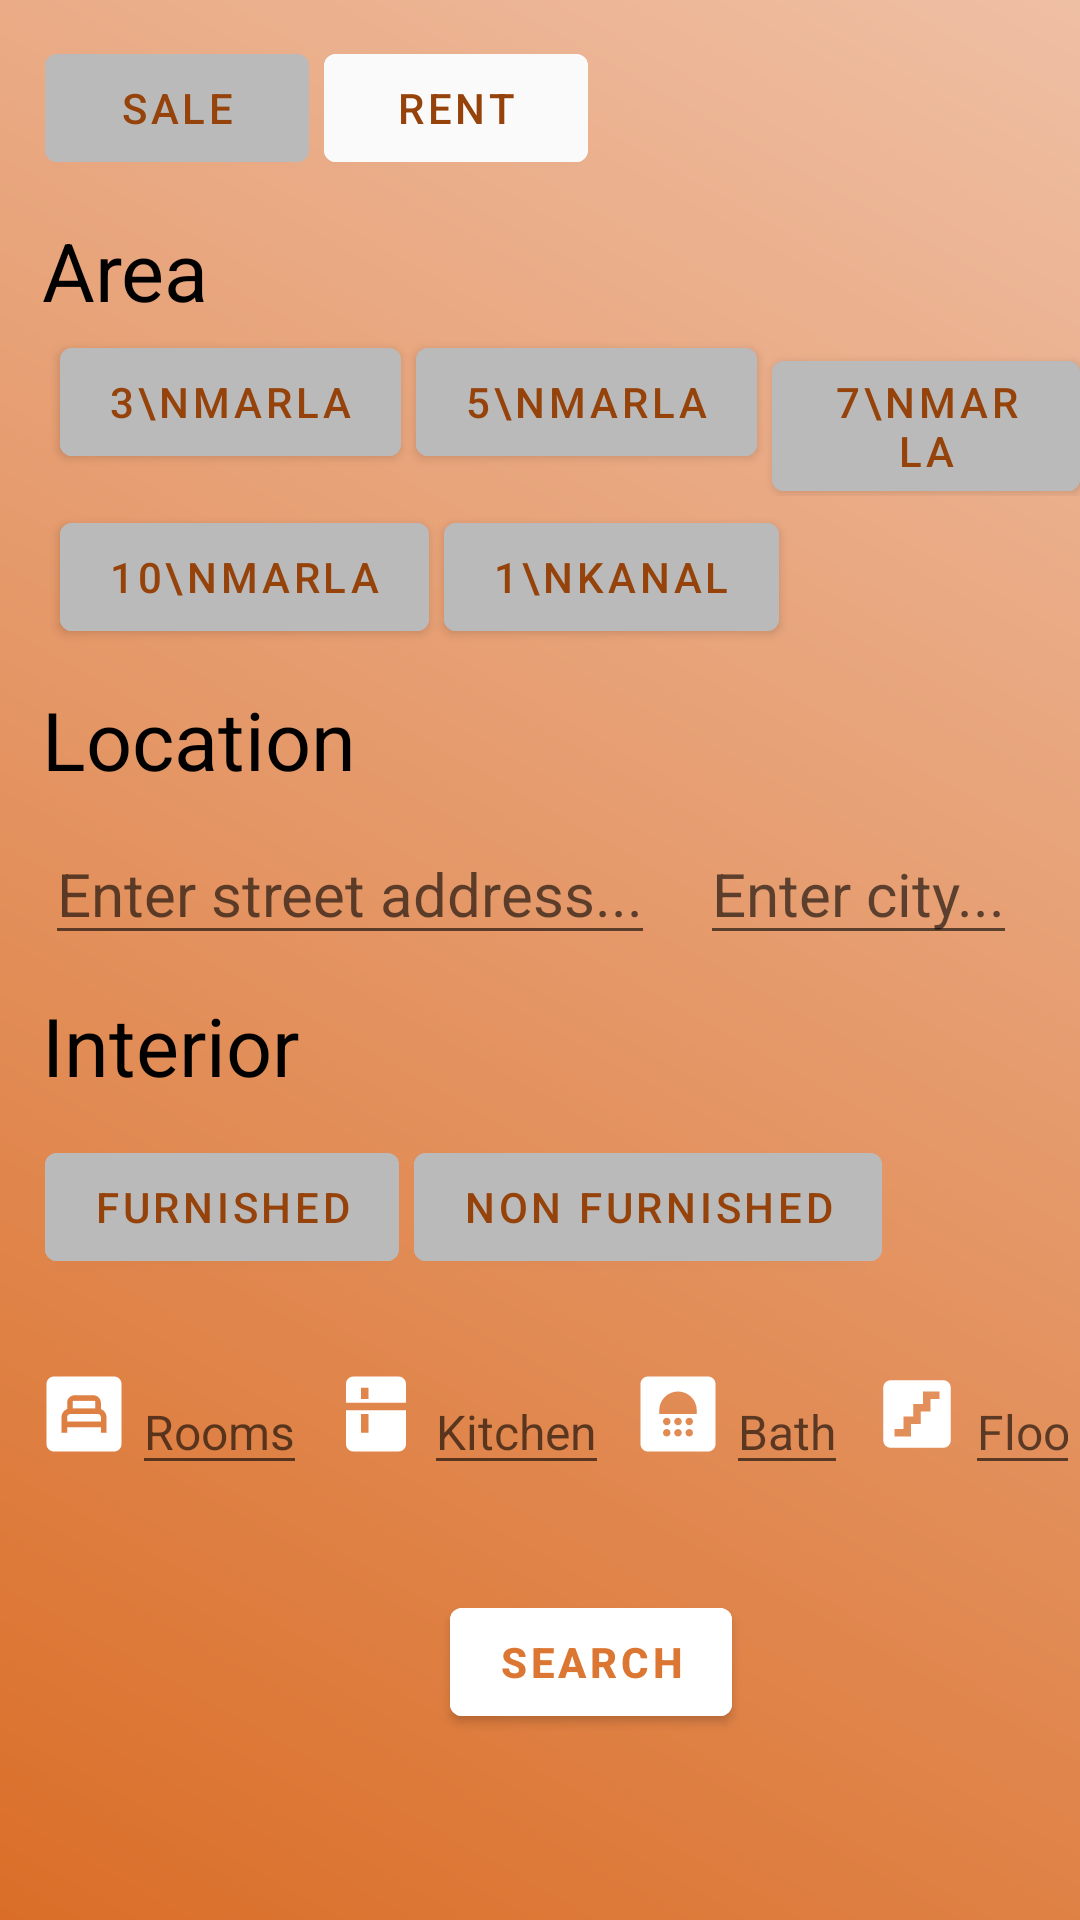

Where to tap for icons on this 1080px x 1920px app screen, as (x=x, y=y):
stair: (x=917, y=1414)
